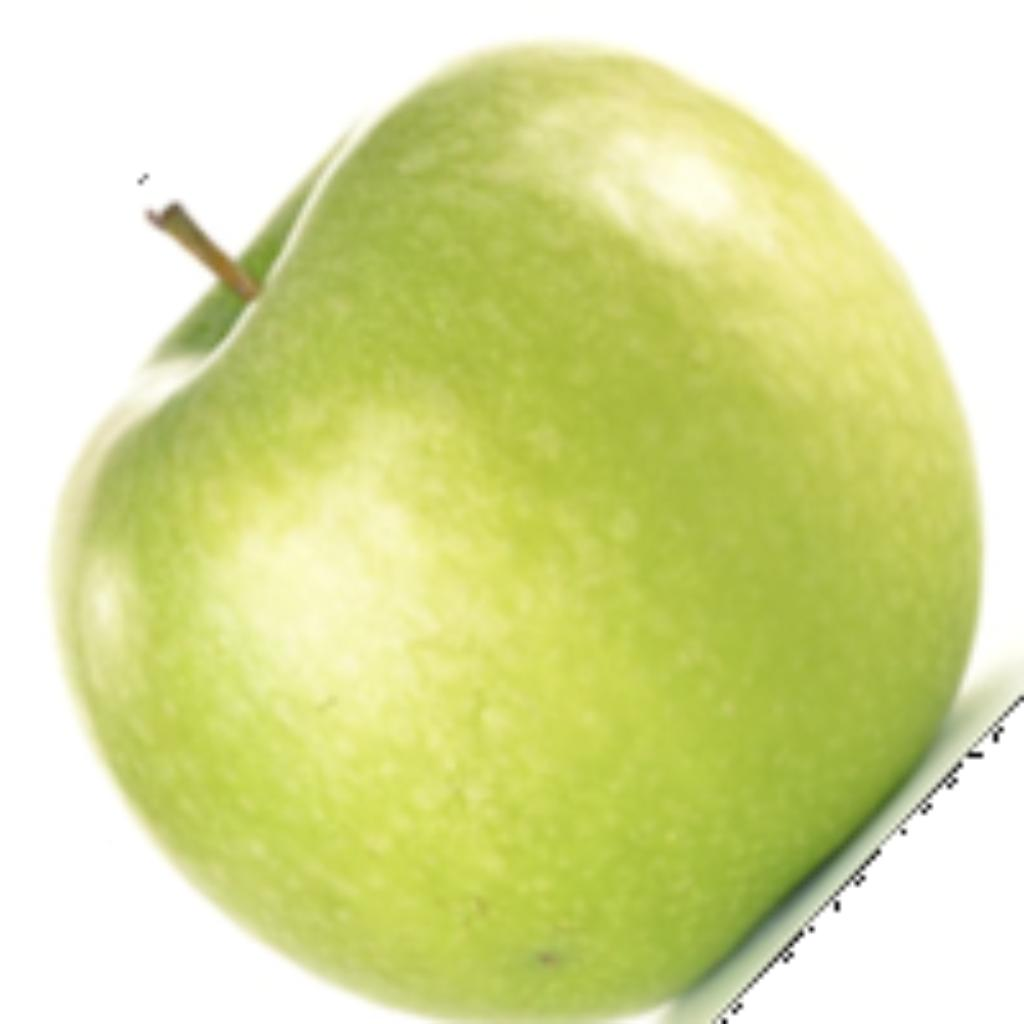apple: (41, 31, 1019, 1019)
